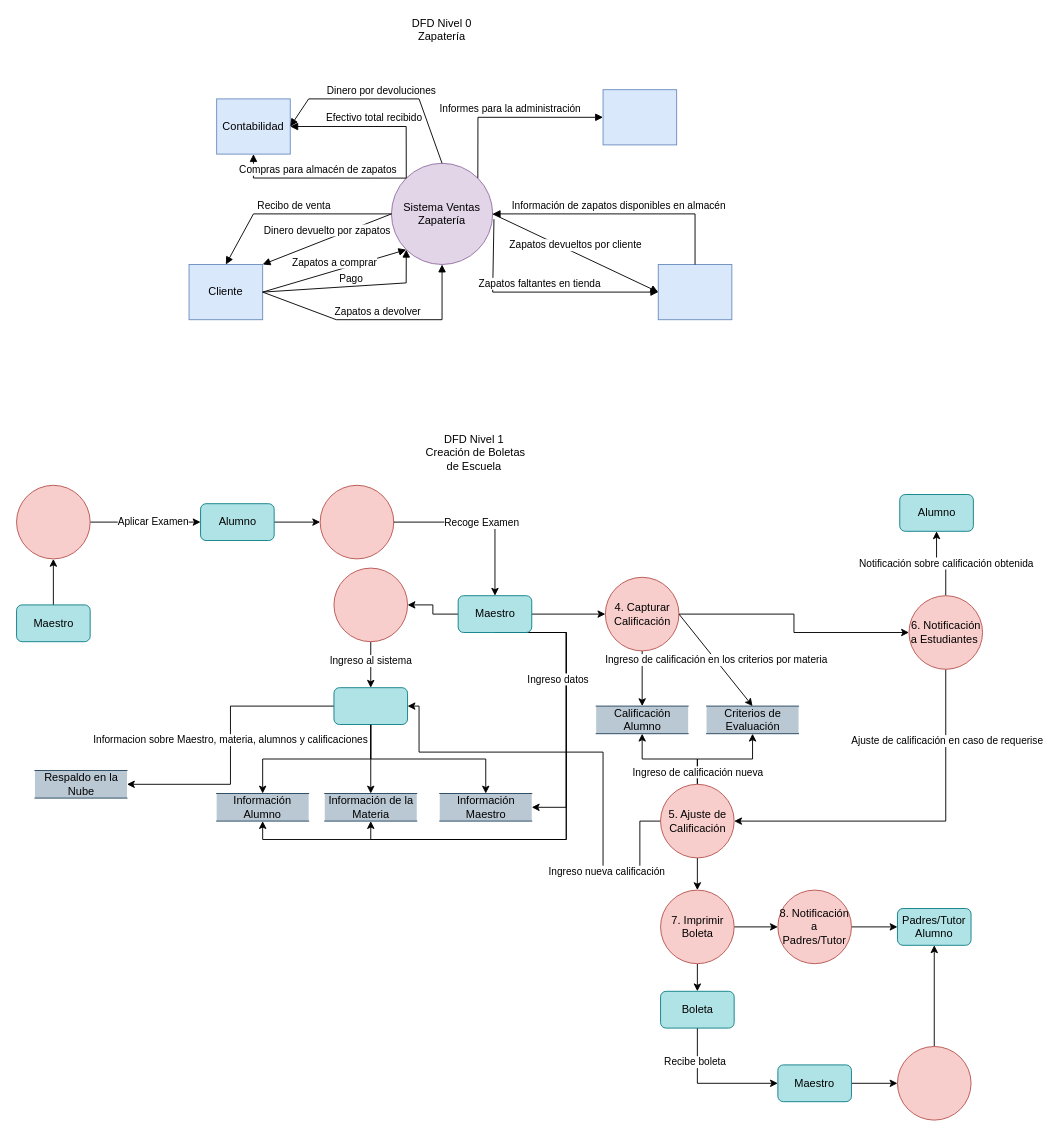
The diagram is 1059 pixels wide and 1136 high, and some of its shapes have lost their labels. The shapes that lost their labels are listed below. From the top down, each one's centre as x and y in pixels, then its label:
point 639,117: Administración
point 694,292: Almacén de zapatos
point 53,521: 1. Diseñar Examen
point 356,521: 2. Realizar Examen
point 370,604: 3. Revisar Examen
point 370,705: Sistema
point 934,1083: 9. Entrega de Boleta
